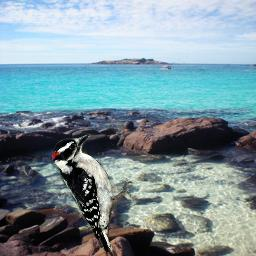Woodpecker: (51, 134, 140, 256)
